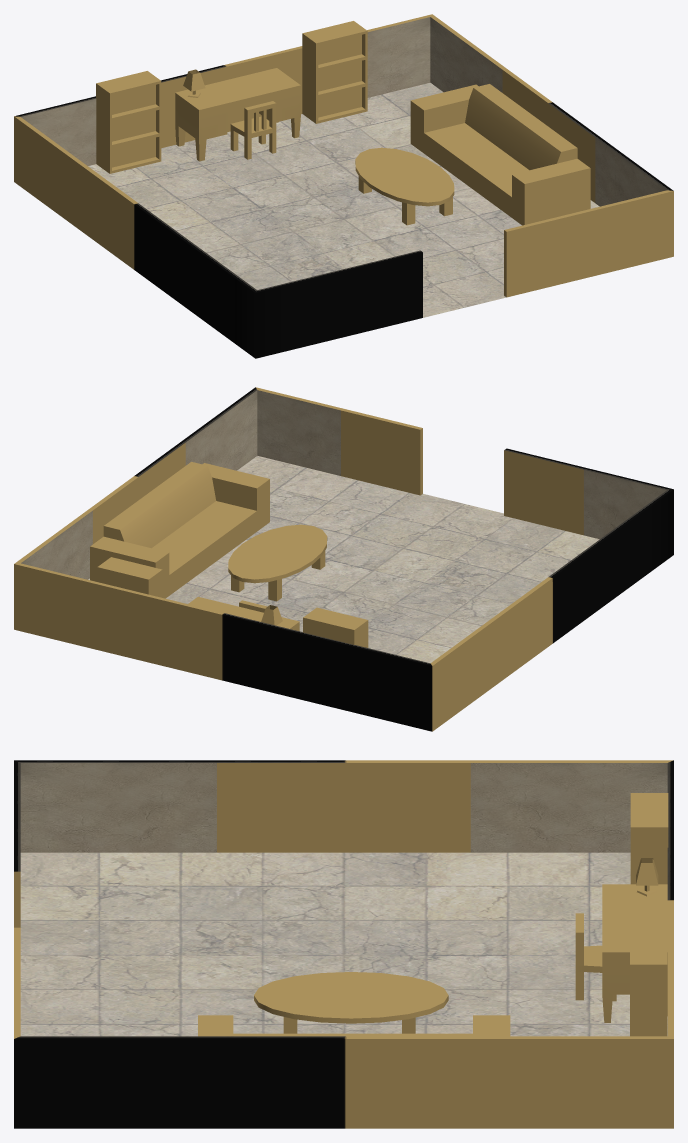
Rendered from Room_0Exit01_Type01.fbx.
3 renders of one model, top to bottom at view 1: azimuth 30°, elevation 25°; view 2: azimuth 150°, elevation 25°; view 3: azimuth 270°, elevation 25°, orthographic. The views are drawn at different scales.
Visible parts, largest first — view 1: Room1x1_1Exit02, Sofa1, Desk1, BookShelf06, BookShelf07, CoffeeTable2, Chair03; view 2: Room1x1_1Exit02, Sofa1, CoffeeTable2, BookShelf06, BookShelf07, Desk1; view 3: Room1x1_1Exit02, CoffeeTable2, Desk1, BookShelf06, BookShelf07, Sofa1, Chair03.
Boxes of the visible parts, left/top/right/bottom form: Room1x1_1Exit02: left=14, top=14, right=673, bottom=358; Sofa1: left=410, top=84, right=590, bottom=225; Desk1: left=175, top=68, right=300, bottom=161; BookShelf06: left=302, top=21, right=367, bottom=123; BookShelf07: left=96, top=71, right=161, bottom=173; CoffeeTable2: left=355, top=147, right=454, bottom=225; Chair03: left=230, top=101, right=276, bottom=159; Room1x1_1Exit02: left=14, top=387, right=673, bottom=731; Sofa1: left=90, top=462, right=269, bottom=598; CoffeeTable2: left=228, top=524, right=327, bottom=601; BookShelf06: left=97, top=557, right=162, bottom=597; BookShelf07: left=303, top=607, right=368, bottom=647; Desk1: left=188, top=596, right=299, bottom=631; Room1x1_1Exit02: left=14, top=760, right=673, bottom=1128; CoffeeTable2: left=254, top=972, right=448, bottom=1033; Desk1: left=602, top=858, right=667, bottom=1022; BookShelf06: left=630, top=930, right=667, bottom=1036; BookShelf07: left=630, top=793, right=668, bottom=884; Sofa1: left=198, top=1015, right=510, bottom=1036; Chair03: left=575, top=913, right=616, bottom=1001.
Size of the model in its own units: 10 by 1.89 by 10.
1 material, 1 textured.
